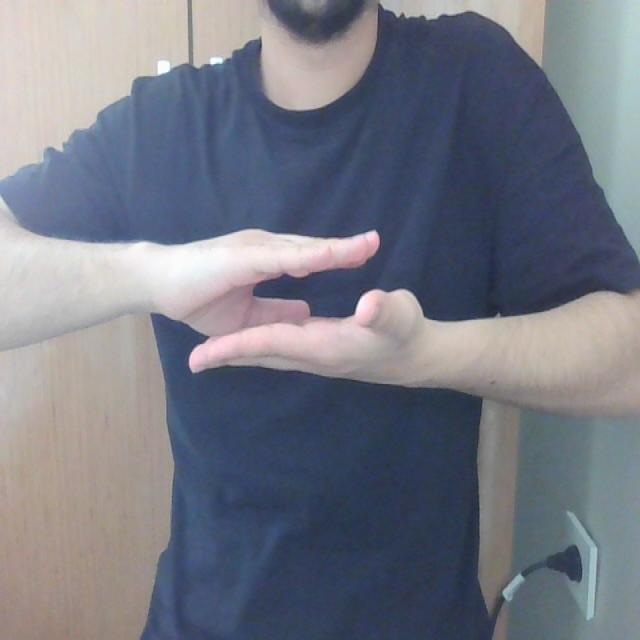Arkadas: (2, 214, 640, 403)
